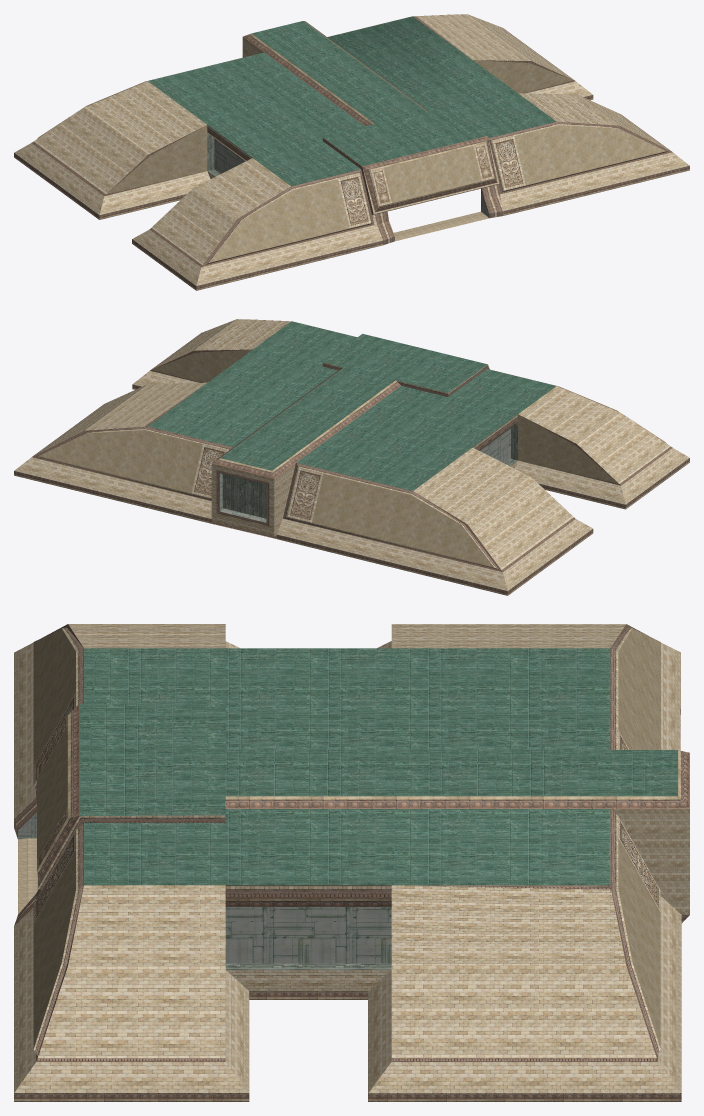
The model's file is mun_nboo_cloning_s01_r0_mesh_l1.fbx.
3 renders of one model, top to bottom at view 1: azimuth 30°, elevation 25°; view 2: azimuth 150°, elevation 25°; view 3: azimuth 270°, elevation 25°, orthographic. The views are drawn at different scales.
Parts seen in each view (by area): view 1: mesh_node; view 2: mesh_node; view 3: mesh_node.
Boxes of the visible parts, x1,y1,x2,y2 form: mesh_node: [14, 14, 689, 290]; mesh_node: [14, 319, 689, 595]; mesh_node: [14, 624, 689, 1101].
Size of the model in its own units: 62.92 by 8.14 by 40.77.
